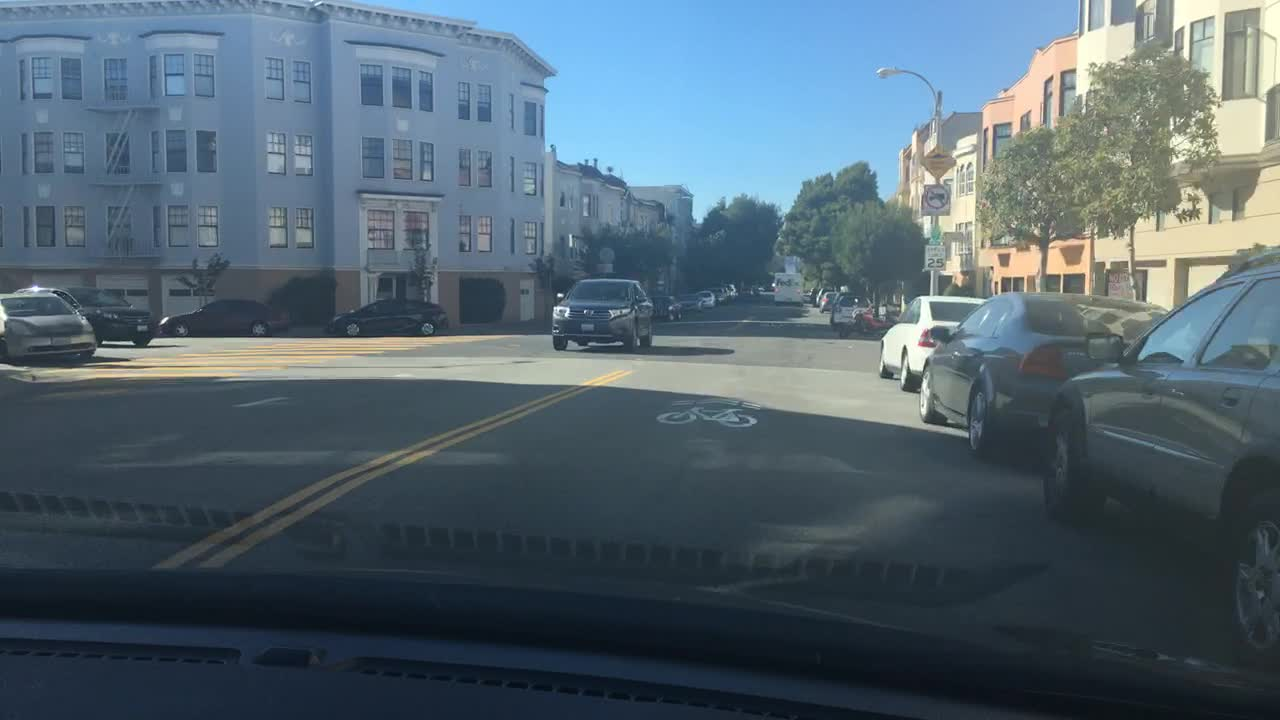car: (1039, 245, 1279, 671), (916, 292, 1167, 457), (879, 293, 984, 391), (12, 285, 158, 347), (548, 278, 654, 354), (0, 287, 98, 366), (320, 293, 450, 339), (160, 295, 290, 336), (827, 293, 862, 327), (649, 292, 678, 322), (675, 290, 705, 312), (816, 287, 838, 314), (708, 287, 732, 304), (813, 287, 833, 304), (698, 288, 719, 304), (806, 285, 820, 304), (725, 282, 739, 300)
motor: (833, 305, 897, 339)
traffic sign: (918, 143, 955, 177), (916, 180, 948, 214), (923, 243, 945, 273)
truck: (771, 268, 806, 307)
